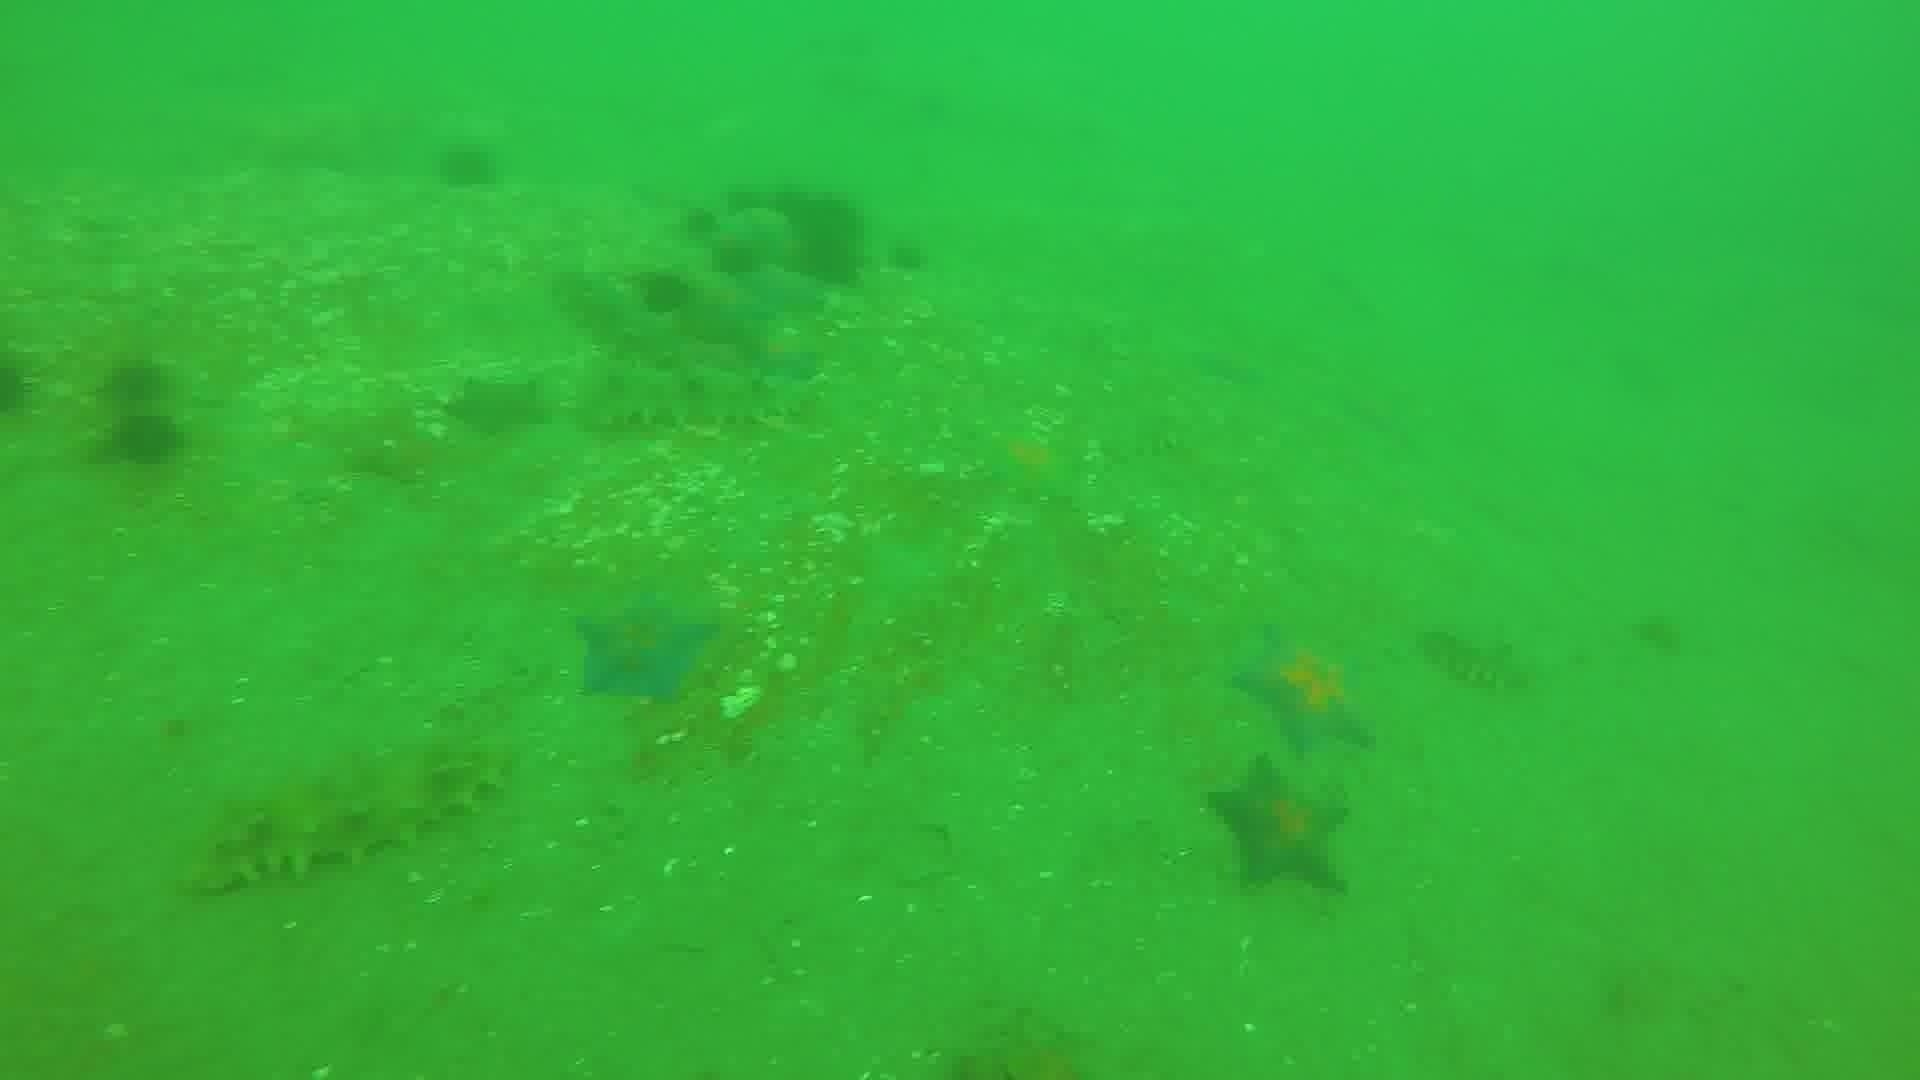echinus: (781, 193, 872, 291), (102, 406, 187, 472), (96, 352, 174, 413), (433, 136, 504, 195), (632, 266, 698, 320), (0, 345, 40, 425), (709, 233, 767, 282), (885, 233, 934, 278), (676, 200, 723, 245)
holothurian: (185, 725, 514, 899), (574, 357, 819, 440), (1414, 618, 1542, 698)
starfish: (1204, 754, 1356, 899), (1226, 624, 1379, 758), (570, 588, 721, 707), (943, 1004, 1100, 1077), (977, 419, 1083, 506), (673, 268, 779, 349), (442, 371, 549, 440), (737, 319, 829, 386), (735, 262, 829, 322)
